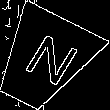N_SW: (11, 29, 76, 92)
